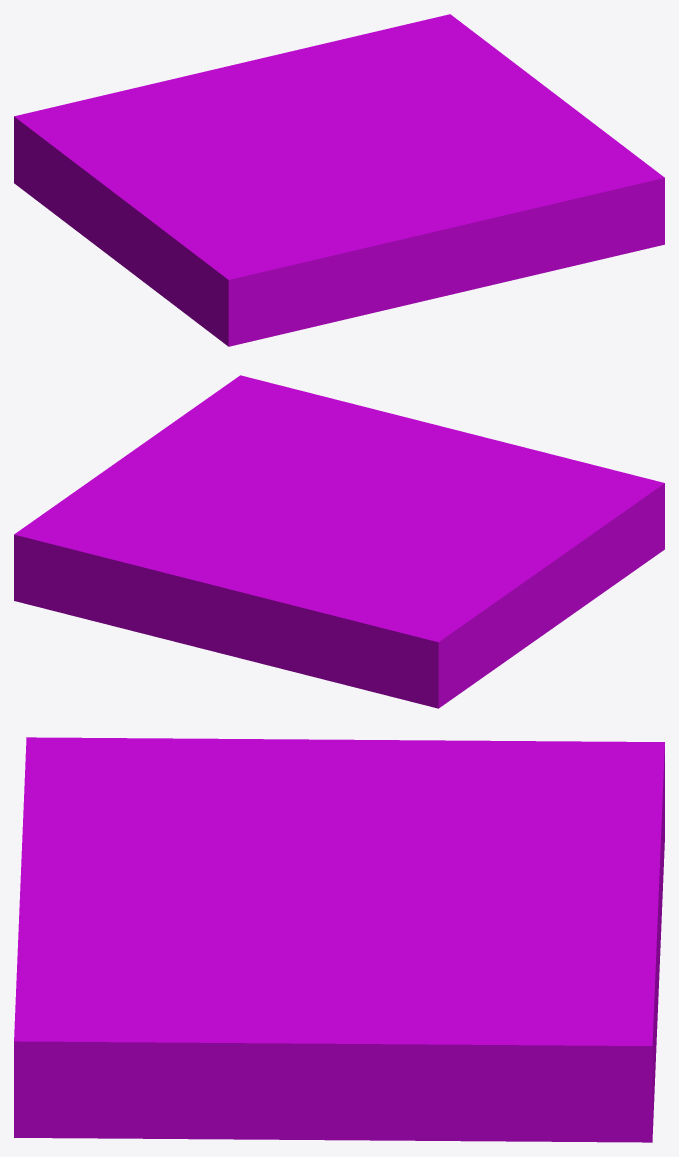
File: GRU.glb
3 renders of one model, top to bottom at view 1: azimuth 30°, elevation 25°; view 2: azimuth 150°, elevation 25°; view 3: azimuth 270°, elevation 25°, orthographic. The views are drawn at different scales.
Parts seen in each view (by area): view 1: Cube; view 2: Cube; view 3: Cube.
Boxes of the visible parts, x1=… form: Cube: x1=14, y1=14, x2=664, y2=346; Cube: x1=14, y1=375, x2=664, y2=708; Cube: x1=14, y1=737, x2=664, y2=1142.
Bounding box in the file's own units: 26.17 × 3.81 × 23.32.
